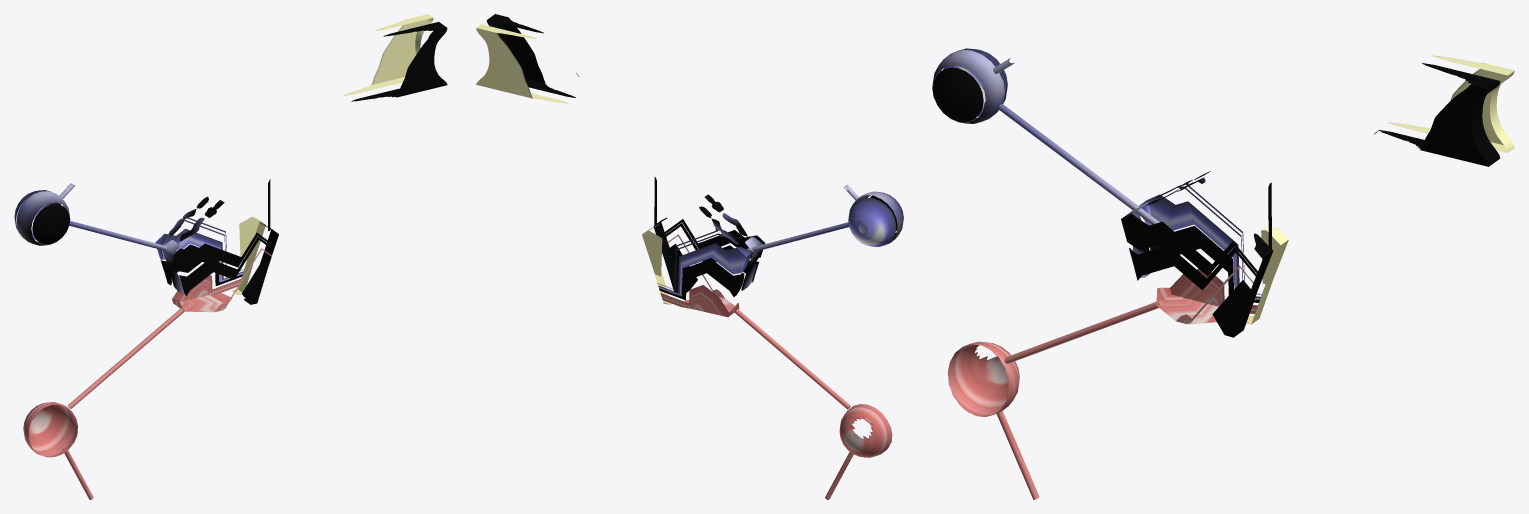
Rendered from a3dnax3.DAE.
3 views of the same model, side by side, from view 1: azimuth 30°, elevation 25°; view 2: azimuth 150°, elevation 25°; view 3: azimuth 330°, elevation 25° (orthographic). The views are drawn at different scales.
Visible parts, largest first — view 1: Rectangle01; view 2: Rectangle01; view 3: Rectangle01.
Boxes of the visible parts, <box> form: Rectangle01: <box>14,14,447,499</box>; Rectangle01: <box>476,14,903,499</box>; Rectangle01: <box>932,48,1514,499</box>.
Bounding box in the file's own units: 189 × 24.17 × 171.
1 material, 1 textured.
